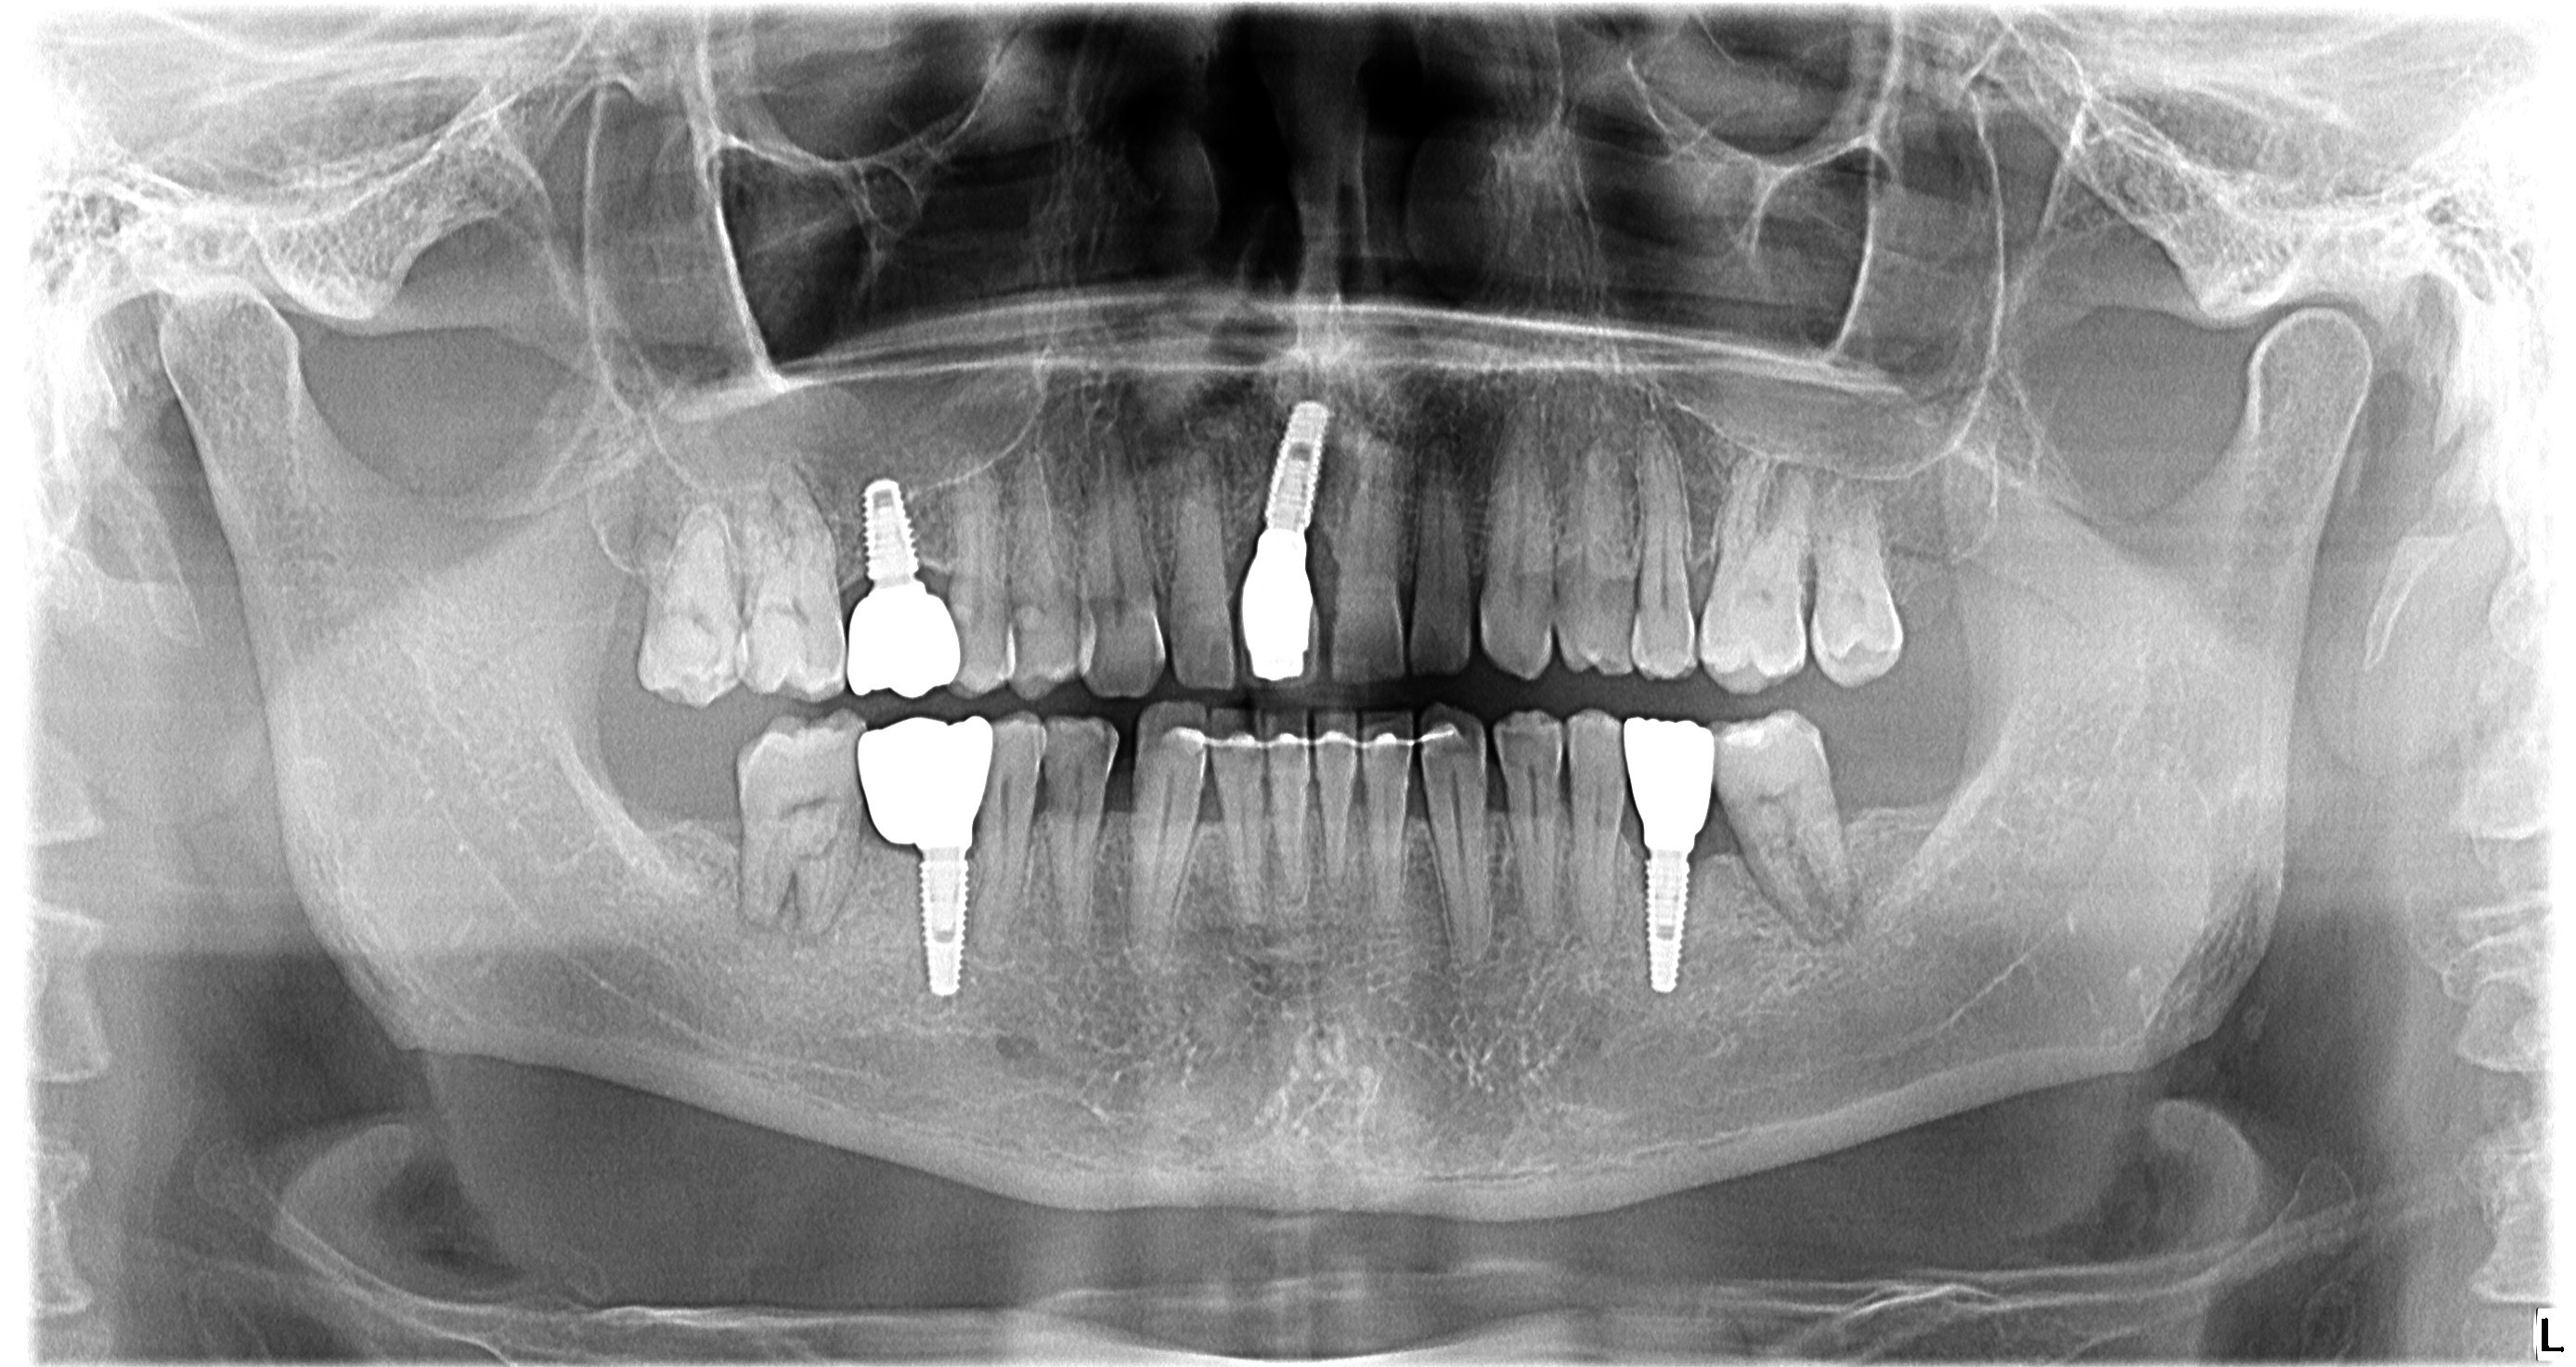IMP: (1244, 393, 1348, 540), (1625, 843, 1709, 1006), (901, 841, 978, 1010), (852, 461, 939, 579)
IMT: (1225, 518, 1281, 584), (1300, 524, 1344, 581)
OBT: (850, 715, 995, 841), (843, 581, 959, 698), (1615, 701, 1712, 841), (1230, 548, 1322, 688)
PRR: (1716, 720, 1777, 744)
